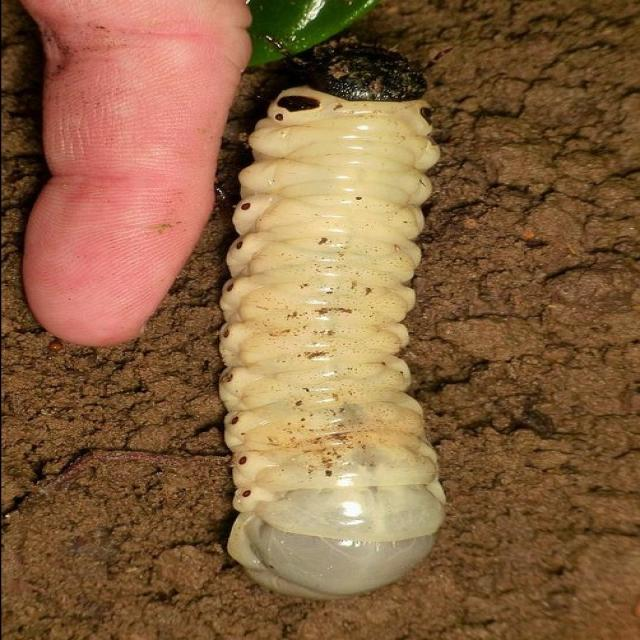grub: (220, 46, 456, 602)
